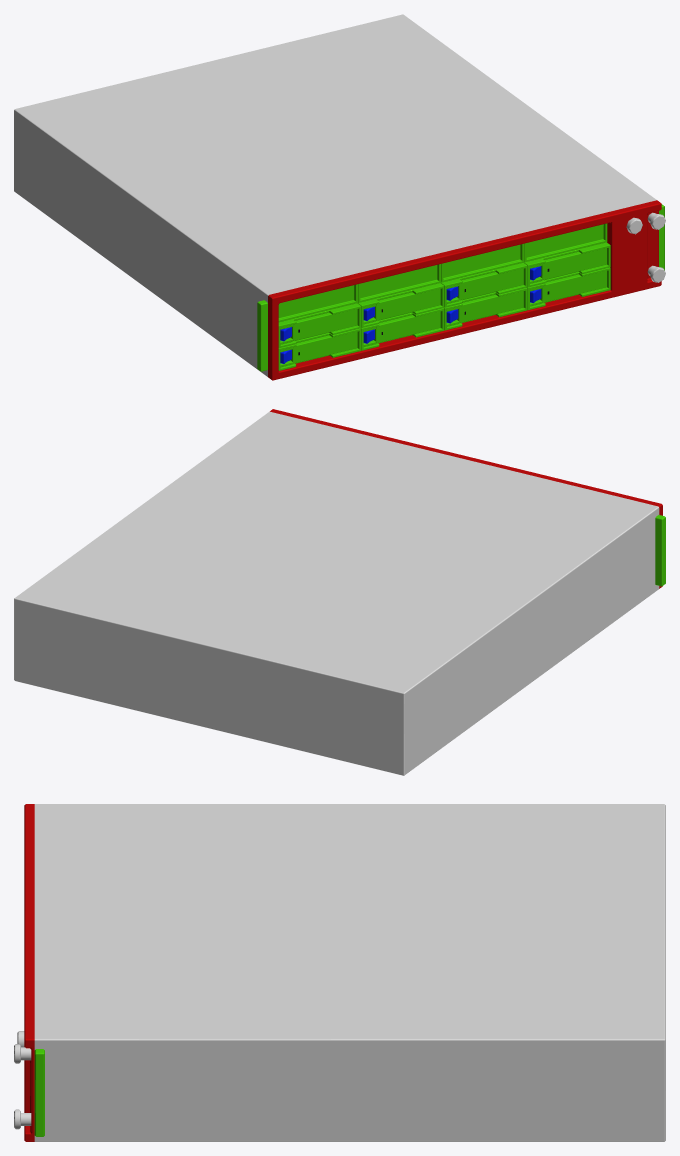
The model's file is ServerBay04.fbx.
The picture shows the model from 3 angles, top to bottom: view 1: azimuth 30°, elevation 25°; view 2: azimuth 150°, elevation 25°; view 3: azimuth 270°, elevation 25°; orthographic projection. The views are drawn at different scales.
Parts seen in each view (by area): view 1: ServerBay04; view 2: ServerBay04; view 3: ServerBay04.
Boxes of the visible parts, <box> form: ServerBay04: <box>14,14,665,380</box>; ServerBay04: <box>14,409,665,775</box>; ServerBay04: <box>14,804,665,1141</box>.
Size of the model in its own units: 70 by 13.75 by 78.75.
